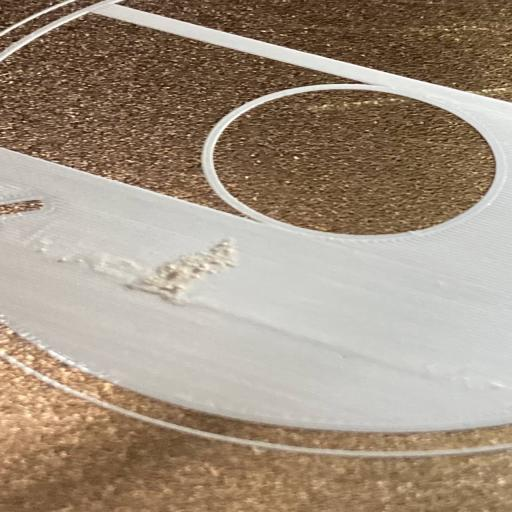blobs: (121, 235, 240, 307)
